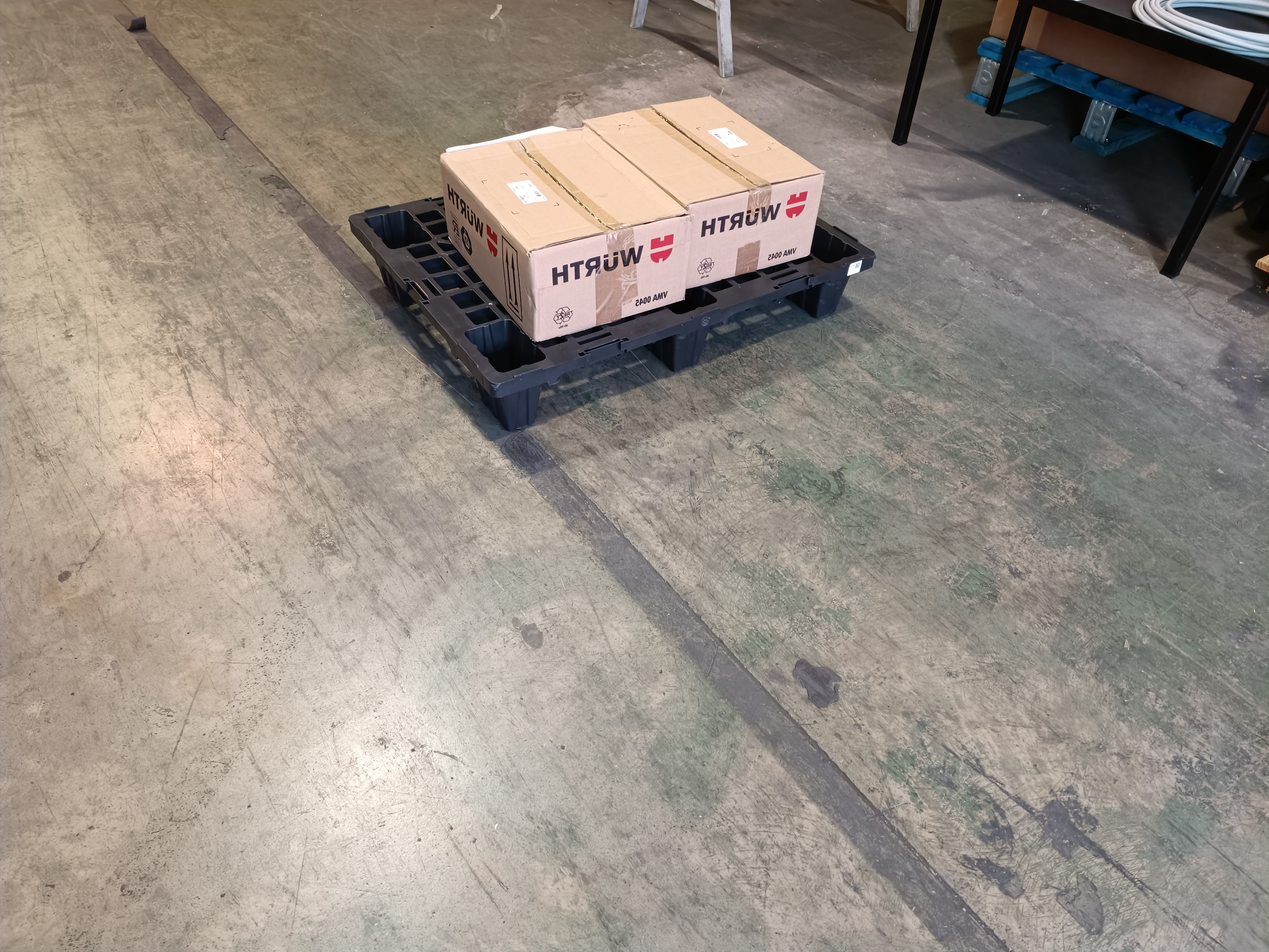block: (476, 377, 541, 436), (673, 327, 713, 370), (811, 275, 849, 318)
front: (490, 254, 879, 452)
hole pallet: (535, 335, 688, 429), (714, 285, 825, 373)
